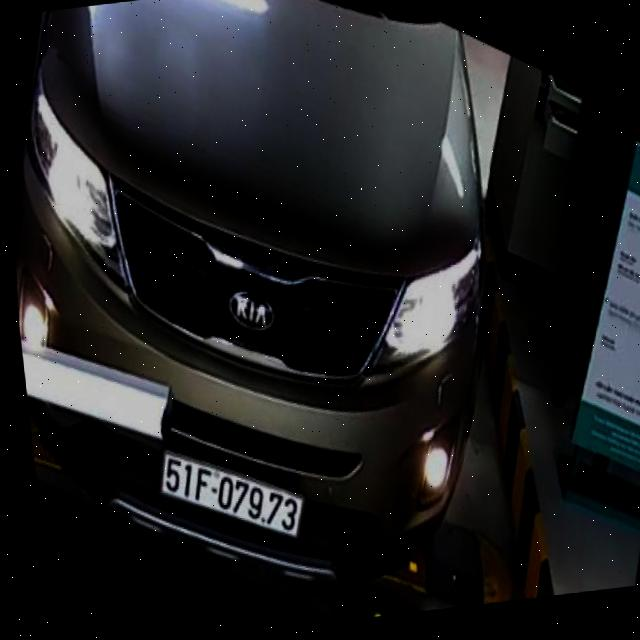car: (0, 0, 527, 630)
plate: (149, 430, 313, 565)
